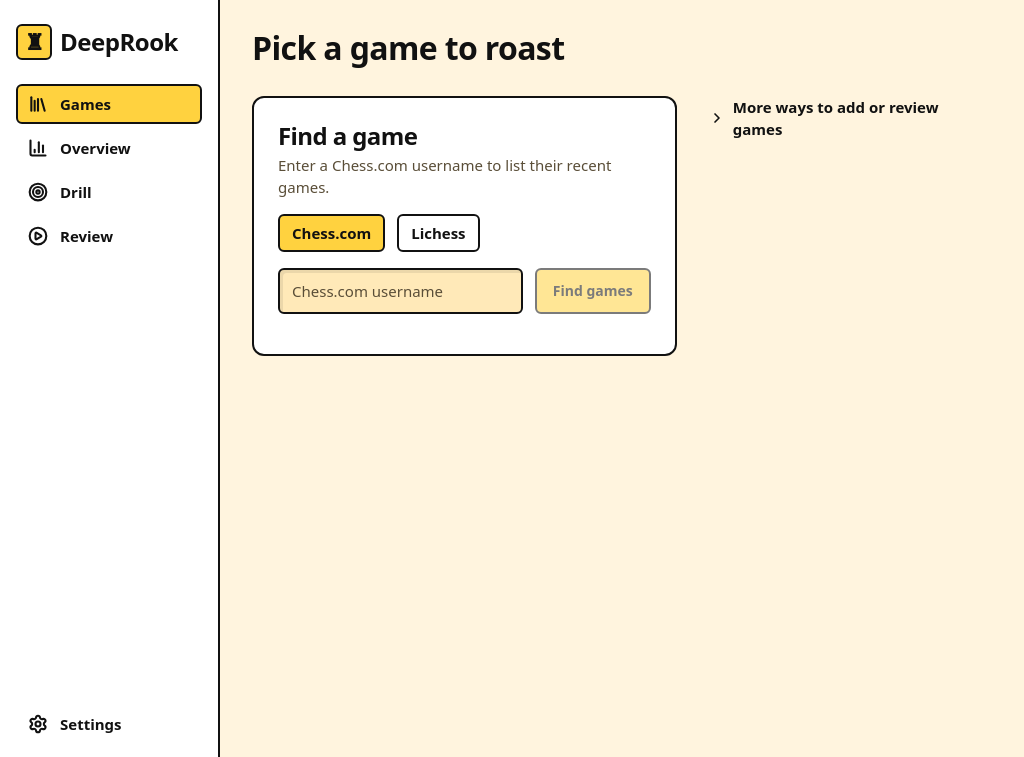
Scenario: time-control and result chips sit above the list, offering the speeds listed
Step 1. Type "Me" into the field labelled "Chess.com username" → (400, 291), box [278,268,523,314]
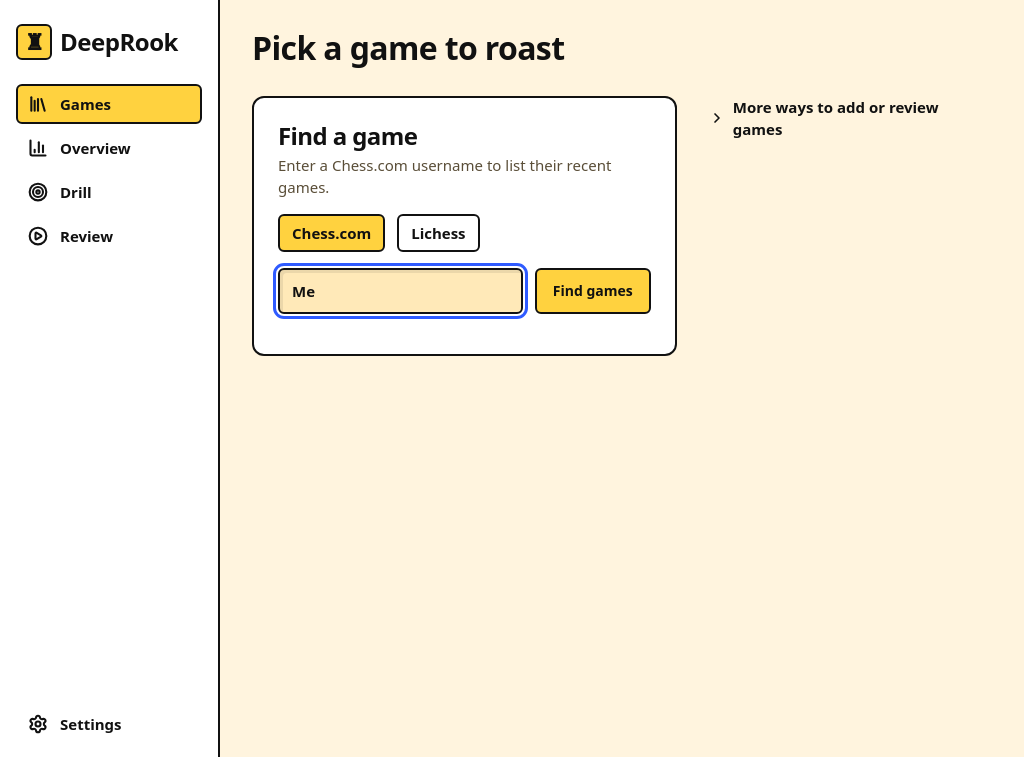
Step 2. Click the button "Find games" → (593, 291), box [535,268,651,314]
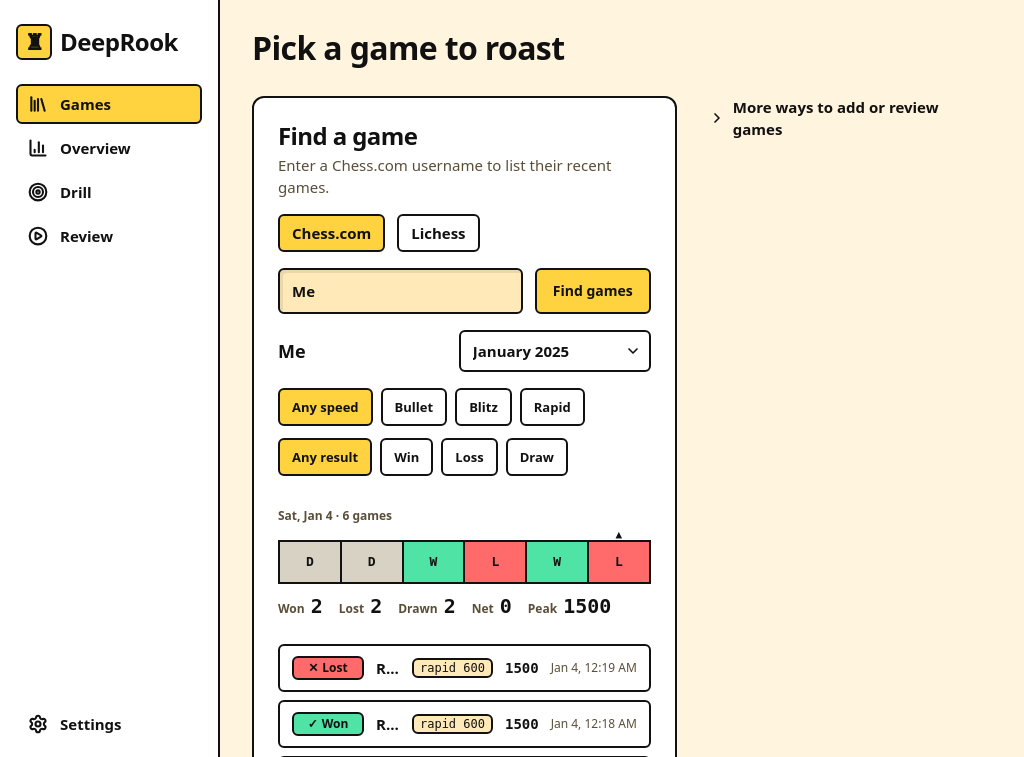
Expected: the button "✕ Lost Rival1(1490) rapid 600 1500 Jan 4, 12:19 AM" is shown, [278,644,651,692]
Expected: the buttons read "Any speed", "Bullet", "Blitz", "Rapid", in this order, [278,388,373,426]; [381,388,447,426]; [455,388,512,426]; [520,388,585,426]
Expected: the buttons read "Any result", "Win", "Loss", "Draw", in this order, [278,438,372,476]; [380,438,433,476]; [441,438,498,476]; [506,438,568,476]
